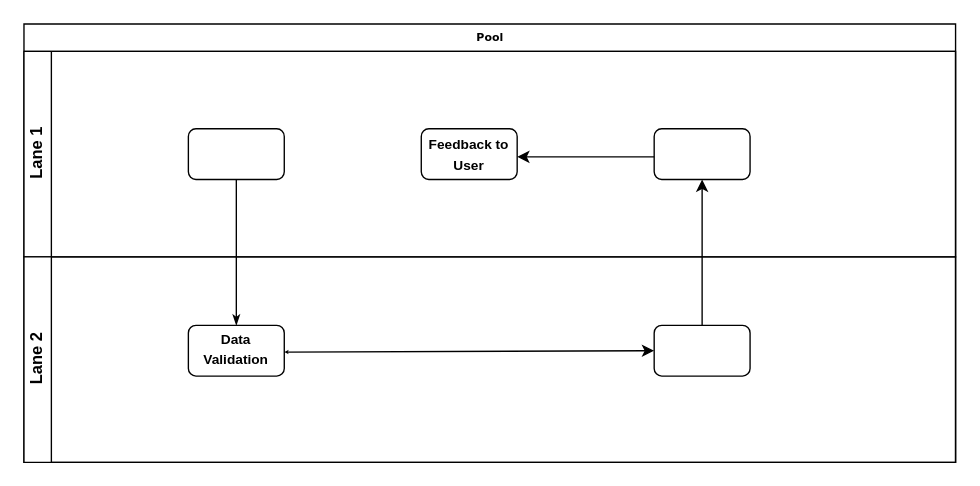
This 980x486 diagram has some shape labels left out. Each missing label, with the centre of its shape:
Database Storage: the point at 701,350
Insert Query Execution: the point at 701,153
Product Testing Data: the point at 235,153
